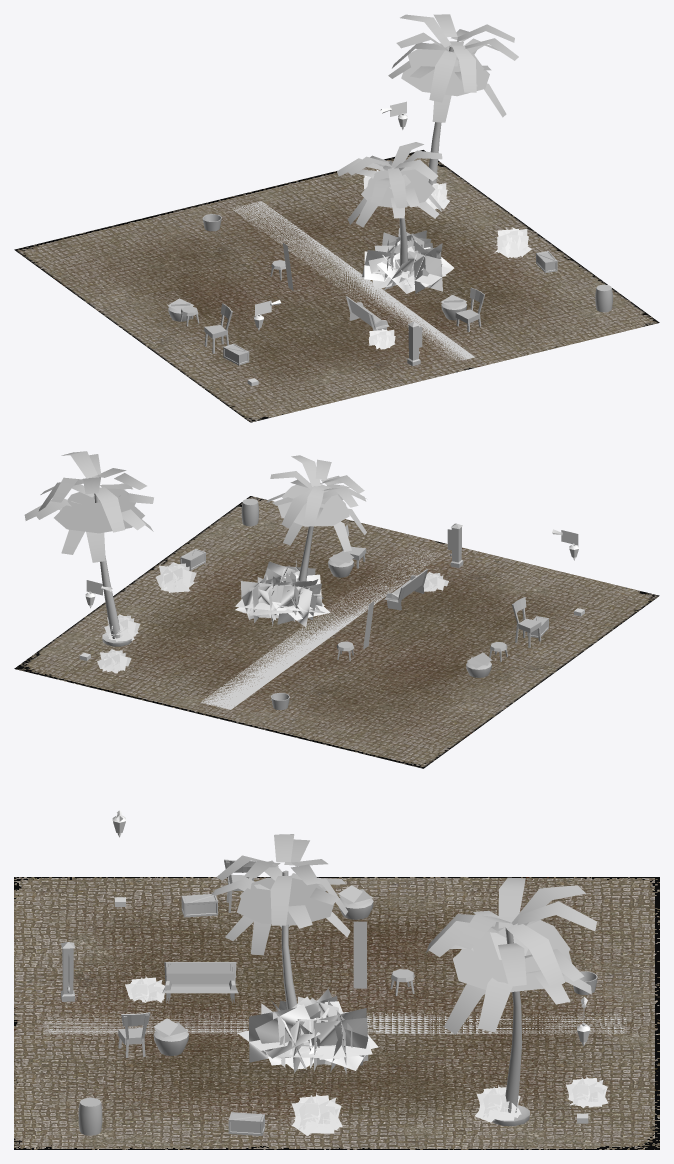
The model's file is propsonly_5.gltf.
3 renders of one model, top to bottom at view 1: azimuth 30°, elevation 25°; view 2: azimuth 150°, elevation 25°; view 3: azimuth 270°, elevation 25°, orthographic. The views are drawn at different scales.
Visible parts, largest first — view 1: ground.005, prop_tree3.005, prop_tree1.006, FeedbackBlocker.006, prop_bush_jungle_04_small.005, prop_building_bush_05.020, prop_bench1.005; view 2: ground.005, prop_tree3.005, prop_tree1.006, FeedbackBlocker.006, prop_bush_jungle_04_small.005, prop_building_bush_05.020, prop_bench1.005, prop_chair1.017, prop_building_bush_05.022, prop_building_bush_05.023, prop_waterpump.004, prop_flowerpot.015 (+1 smaller); view 3: ground.005, prop_tree3.005, prop_tree1.006, prop_bush_jungle_04_small.005, FeedbackBlocker.006, prop_bench1.005, prop_building_bush_05.020, prop_building_bush_05.023, prop_building_bush_05.022, prop_flowerpot.015, prop_broom.005, prop_chair1.016 (+6 smaller).
Boxes of the visible parts, x1=… form: ground.005: x1=14, y1=150, x2=659, y2=422; prop_tree3.005: x1=388, y1=14, x2=518, y2=185; prop_tree1.006: x1=337, y1=142, x2=442, y2=271; FeedbackBlocker.006: x1=232, y1=201, x2=474, y2=361; prop_bush_jungle_04_small.005: x1=362, y1=228, x2=454, y2=293; prop_building_bush_05.020: x1=494, y1=227, x2=531, y2=257; prop_bench1.005: x1=345, y1=296, x2=389, y2=330; ground.005: x1=14, y1=496, x2=659, y2=768; prop_tree3.005: x1=24, y1=451, x2=153, y2=638; prop_tree1.006: x1=266, y1=455, x2=366, y2=581; FeedbackBlocker.006: x1=201, y1=547, x2=442, y2=709; prop_bush_jungle_04_small.005: x1=235, y1=560, x2=330, y2=627; prop_building_bush_05.020: x1=156, y1=562, x2=196, y2=592; prop_bench1.005: x1=384, y1=569, x2=428, y2=610; prop_chair1.017: x1=511, y1=597, x2=541, y2=647; prop_building_bush_05.022: x1=97, y1=649, x2=131, y2=673; prop_building_bush_05.023: x1=104, y1=614, x2=140, y2=641; prop_waterpump.004: x1=447, y1=523, x2=463, y2=567; prop_flowerpot.015: x1=328, y1=550, x2=353, y2=577; ground.005: x1=14, y1=877, x2=659, y2=1149; prop_tree3.005: x1=426, y1=877, x2=596, y2=1112; prop_tree1.006: x1=211, y1=834, x2=350, y2=1009; prop_bush_jungle_04_small.005: x1=237, y1=988, x2=378, y2=1073; FeedbackBlocker.006: x1=43, y1=1013, x2=626, y2=1033; prop_bench1.005: x1=162, y1=962, x2=238, y2=1003; prop_building_bush_05.020: x1=291, y1=1092, x2=342, y2=1135; prop_building_bush_05.023: x1=475, y1=1085, x2=521, y2=1122; prop_building_bush_05.022: x1=566, y1=1075, x2=608, y2=1107; prop_flowerpot.015: x1=153, y1=1018, x2=188, y2=1055; prop_broom.005: x1=353, y1=921, x2=366, y2=988; prop_chair1.016: x1=118, y1=1012, x2=150, y2=1057.
Size of what is drawn, in the model's own units: 3.52 by 1.44 by 3.3.
